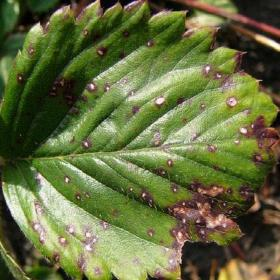Leaf Spot: (0, 0, 279, 279)
